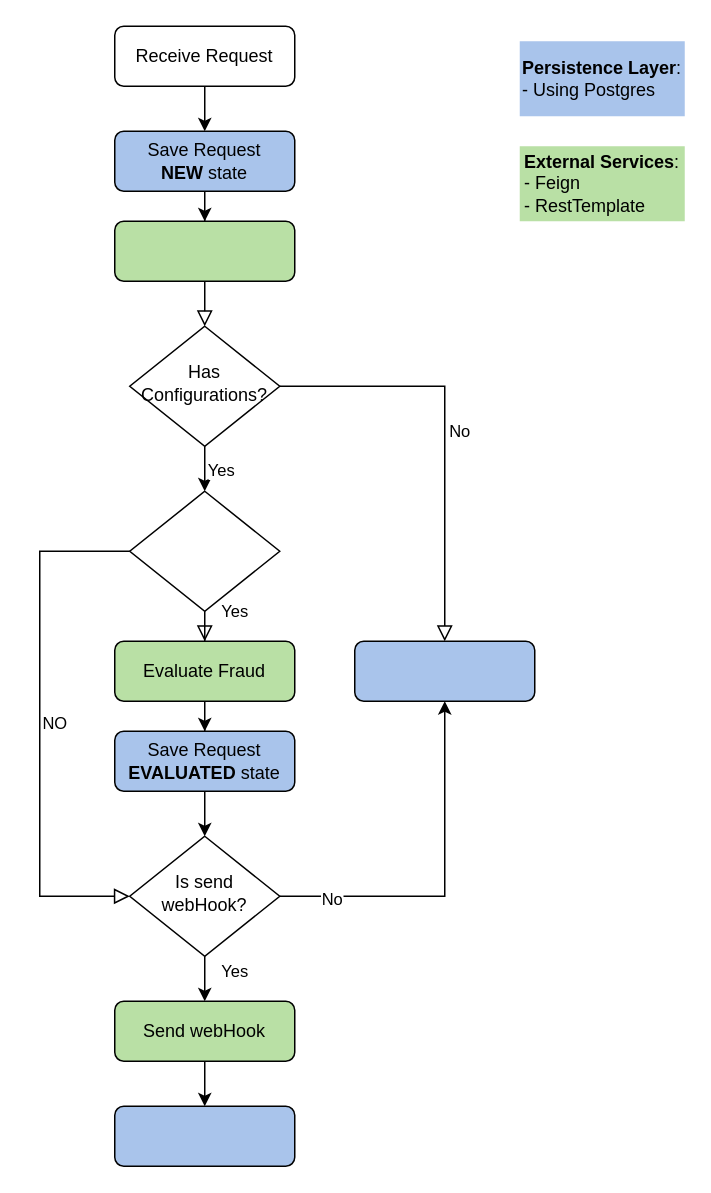
The diagram is 711 pixels wide and 1193 high, and some of its shapes have lost their labels. Here are the shapes that lost their labels. From the top down, the box of each, then its label:
(113, 220, 295, 281): Get Merchant Configurations
(128, 490, 280, 611): Is evaluate Fraud?
(353, 640, 535, 701): Save Request ERROR state
(113, 1105, 295, 1166): Save Request NOTIFIED state
